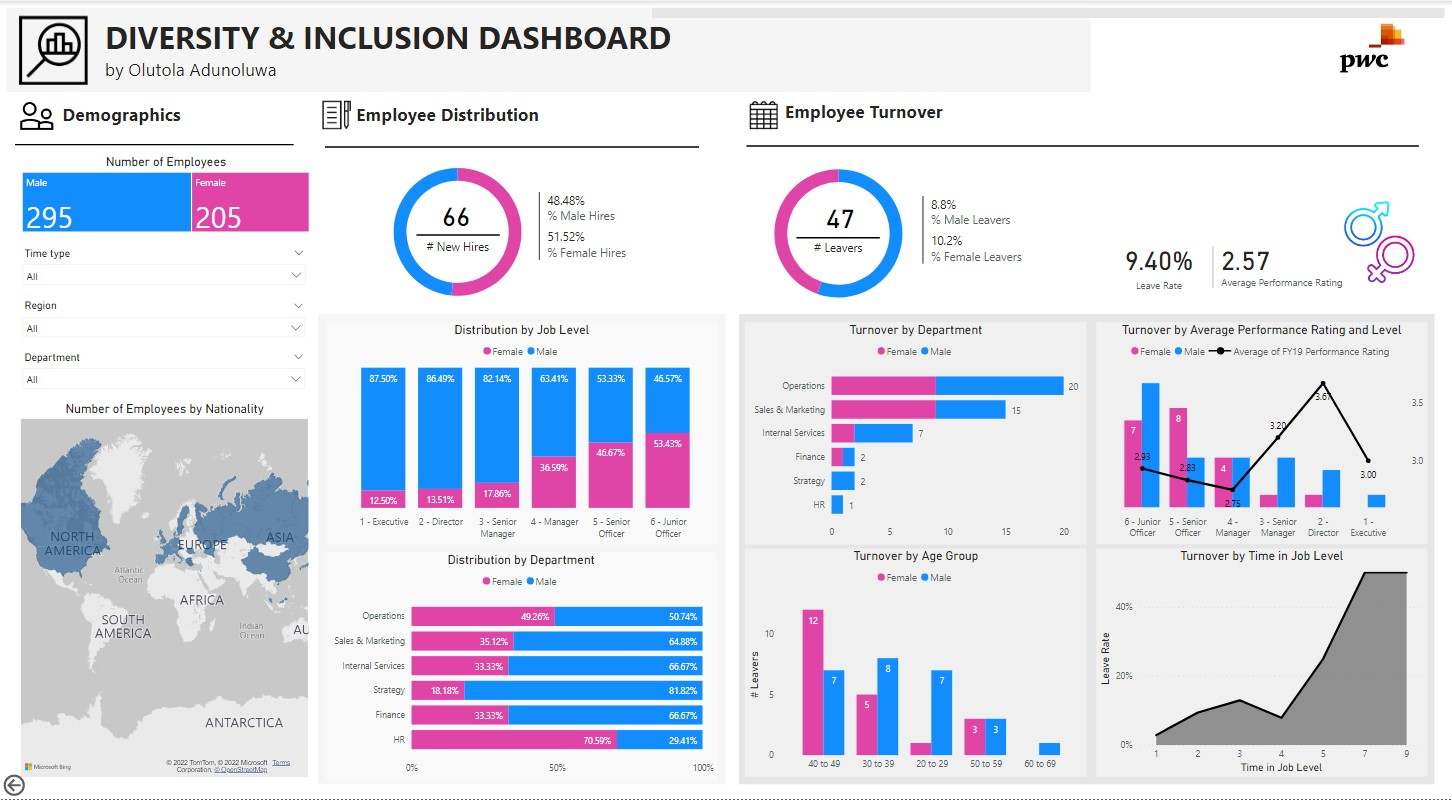

This screenshot's page, from the dashboard's own definition file:
{"tool":"powerbi","page":{"name":"Duplicate of Page 1A","canvas":[2000,1100],"ordinal":1},"visuals":[{"type":"shape","box":[0,0,1640,134.5],"z":0},{"type":"image","box":[1028.3,131.7,48.2,53.4],"z":0,"group":"g6"},{"type":"donutChart","fields":{"Category":["Pharma.Gender"],"Y":["Pharma.# Leavers"]},"box":[989.8,204.9,329.7,230.2],"z":0,"group":"g1"},{"type":"textbox","box":[1076.5,131.7,229,53.4],"z":1000,"group":"g6"},{"type":"image","box":[1795.7,154.3,204.3,292.9],"z":1000},{"type":"donutChart","fields":{"Category":["Pharma.Gender"],"Y":["Pharma.# New Hires"]},"box":[461.3,203.1,338,230.1],"z":1000,"group":"g3"},{"type":"multiRowCard","fields":{"Values":["Pharma.# % Male Hires","Pharma.# % Female Hires"]},"box":[736.8,258.6,205,121.2],"z":1000,"group":"g2"},{"type":"card","fields":{"Values":["Pharma.# Leavers"]},"box":[1093.7,273.7,127.9,45.3],"z":1000,"group":"g4"},{"type":"shape","box":[428.6,421.8,580.1,666.2],"z":2000},{"type":"card","fields":{"Values":["Pharma.# New Hires"]},"box":[571.3,278.8,112.9,52.9],"z":3000,"group":"g3"},{"type":"shape","box":[1097.1,318,115,15],"z":3000,"group":"g4"},{"type":"shape","box":[1008.8,421.8,976.1,666.2],"z":3000},{"type":"treemap","title":"Number of Employees","fields":{"Group":["Pharma Group AG.Gender"],"Values":["CountNonNull(Pharma.Employee ID)"]},"box":[25,211.3,405.4,111.4],"z":4000},{"type":"shape","box":[573.2,315.7,115,14.6],"z":5000,"group":"g3"},{"type":"hundredPercentStackedColumnChart","title":"Employee Distribution by Job Level and Gender","fields":{"Y":["CountNonNull(Pharma.Employee ID)"],"Series":["Pharma.Gender"],"Category":["Pharma.Job Level after FY20 promotions"]},"box":[449.2,442.5,538.3,306.7],"z":5000},{"type":"hundredPercentStackedBarChart","title":"# of Employees by Department and Gender","fields":{"Category":["Pharma.Department @01.07.2020"],"Series":["Pharma.Gender"],"Y":["CountNonNull(Pharma.Employee ID)"]},"box":[447.3,760,540,314.5],"z":6000},{"type":"barChart","title":"# Leavers by Department and Gender","fields":{"Category":["Pharma.Last Department in FY20"],"Series":["Pharma.Gender"],"Y":["Pharma.# Leavers"]},"box":[1026.7,441.9,470.5,306.7],"z":7000},{"type":"group","id":"g1","title":"Group 1","box":[989.8,204.9,329.7,230.2],"z":8000,"group":"g5"},{"type":"filledMap","fields":{"Category":["Pharma.Nationality 1"]},"box":[23.6,550.9,405.5,523.6],"z":8000},{"type":"areaChart","title":"Leave Rate by Time in Job Level ","fields":{"Category":["Pharma.Time in Job Level @01.07.2020"],"Y":["Pharma.# % Leave Rate"]},"box":[1510,754.3,455.7,314.3],"z":9000},{"type":"textbox","box":[140,15,1115,103.3],"z":10000},{"type":"image","box":[1771.6,0,228,122],"z":11000},{"type":"multiRowCard","fields":{"Values":["Pharma.# % Male Leavers","Pharma.# % Female Leavers"]},"box":[1265,264,215,121.2],"z":11000,"group":"g5"},{"type":"textbox","box":[1077.6,324.1,153.4,34.4],"z":11000,"group":"g4"},{"type":"group","id":"g2","title":"Group 4","box":[461.3,203.1,480.5,230.1],"z":12000},{"type":"group","id":"g3","title":"Group 2","box":[461.3,203.1,338,230.1],"z":12000,"group":"g2"},{"type":"textbox","box":[564.5,321.9,131.5,37.6],"z":12000,"group":"g3"},{"type":"group","id":"g4","title":"Group 3","box":[1077.6,273.7,153.4,84.8],"z":12002,"group":"g1"},{"type":"textbox","box":[493.1,135.1,229,53.4],"z":13000,"group":"g7"},{"type":"group","id":"g5","title":"Group 5","box":[989.8,204.9,490.6,229],"z":13000},{"type":"image","box":[20.3,134.6,59.5,48.5],"z":14000},{"type":"shape","box":[448.3,185,515,33.3],"z":15000},{"type":"shape","box":[1027.7,182.5,926.1,34.4],"z":16000},{"type":"shape","box":[20.7,184.2,383.9,27.5],"z":17000},{"type":"group","id":"g6","title":"Group 6","box":[1028.3,131.7,278.3,53.3],"z":18000},{"type":"group","id":"g7","title":"Group 7","box":[493.1,135.1,229,53.4],"z":18000,"group":"g8"},{"type":"slicer","fields":{"Values":["Pharma.Time type"]},"box":[20.7,334,409.7,74],"z":19000},{"type":"textbox","box":[80.9,134.3,229,53.4],"z":20000},{"type":"image","box":[20,15,105,105],"z":21000},{"type":"lineClusteredColumnComboChart","title":"# Leavers by Age Group and Gender","fields":{"Series":["Pharma.Gender"],"Y":["Pharma.# Leavers"],"Category":["Pharma.Age group"]},"box":[1026.7,754.3,470.5,314.3],"z":22000},{"type":"lineClusteredColumnComboChart","title":"# Leavers and Average Performance Rating by Level","fields":{"Category":["Pharma.Job Level before FY20 promotions"],"Series":["Pharma.Gender"],"Y":["Pharma.# Leavers"],"Y2":["Avg(Pharma.FY19 Performance Rating)"]},"box":[1510,442.9,455.7,305.7],"z":23000},{"type":"shape","box":[888.3,0,1110.3,32.7],"z":24000},{"type":"image","box":[430.9,132.7,65.5,49.1],"z":25001,"group":"g8"},{"type":"group","id":"g8","title":"Group 8","box":[430.9,132.7,291.1,55.7],"z":26000},{"type":"slicer","fields":{"Values":["Pharma.Region group: nationality 1"]},"box":[20,405.5,409.1,74.5],"z":27000},{"type":"slicer","fields":{"Values":["Pharma.Department @01.07.2020"]},"box":[20,476.4,409.1,74.5],"z":28000},{"type":"multiRowCard","fields":{"Values":["Avg(Pharma.FY20 Performance Rating)"]},"box":[1738.2,369.1,229.1,65.5],"z":29000}]}

Visuals, with their boxes in screenshot pixels (x1, y1, x2, y2), scaled from the page's 2000x1100 canvas onto the 1452x800 screenshot:
shape: bbox(0, 0, 1191, 98)
image: bbox(747, 96, 782, 135)
donutChart - Pharma.Gender x Pharma.# Leavers: bbox(719, 149, 958, 316)
textbox: bbox(782, 96, 948, 135)
image: bbox(1304, 112, 1451, 325)
donutChart - Pharma.Gender x Pharma.# New Hires: bbox(335, 148, 580, 315)
multiRowCard - Pharma.# % Male Hires x Pharma.# % Female Hires: bbox(535, 188, 684, 276)
card - Pharma.# Leavers: bbox(794, 199, 887, 232)
shape: bbox(311, 307, 732, 791)
card - Pharma.# New Hires: bbox(415, 203, 497, 241)
shape: bbox(796, 231, 880, 242)
shape: bbox(732, 307, 1441, 791)
"Number of Employees" treemap: bbox(18, 154, 312, 235)
shape: bbox(416, 230, 500, 240)
"Employee Distribution by Job Level and Gender" hundredPercentStackedColumnChart: bbox(326, 322, 717, 545)
"# of Employees by Department and Gender" hundredPercentStackedBarChart: bbox(325, 553, 717, 781)
"# Leavers by Department and Gender" barChart: bbox(745, 321, 1087, 544)
"Group 1" group: bbox(719, 149, 958, 316)
filledMap - Pharma.Nationality 1: bbox(17, 401, 312, 781)
"Leave Rate by Time in Job Level " areaChart: bbox(1096, 549, 1427, 777)
textbox: bbox(102, 11, 911, 86)
image: bbox(1286, 0, 1451, 89)
multiRowCard - Pharma.# % Male Leavers x Pharma.# % Female Leavers: bbox(918, 192, 1074, 280)
textbox: bbox(782, 236, 894, 261)
"Group 4" group: bbox(335, 148, 684, 315)
"Group 2" group: bbox(335, 148, 580, 315)
textbox: bbox(410, 234, 505, 261)
"Group 3" group: bbox(782, 199, 894, 261)
textbox: bbox(358, 98, 524, 137)
"Group 5" group: bbox(719, 149, 1075, 316)
image: bbox(15, 98, 58, 133)
shape: bbox(325, 135, 699, 159)
shape: bbox(746, 133, 1418, 158)
shape: bbox(15, 134, 294, 154)
"Group 6" group: bbox(747, 96, 949, 135)
"Group 7" group: bbox(358, 98, 524, 137)
slicer - Pharma.Time type: bbox(15, 243, 312, 297)
textbox: bbox(59, 98, 225, 137)
image: bbox(15, 11, 91, 87)
"# Leavers by Age Group and Gender" lineClusteredColumnComboChart: bbox(745, 549, 1087, 777)
"# Leavers and Average Performance Rating by Level" lineClusteredColumnComboChart: bbox(1096, 322, 1427, 544)
shape: bbox(645, 0, 1451, 24)
image: bbox(313, 97, 360, 132)
"Group 8" group: bbox(313, 97, 524, 137)
slicer - Pharma.Region group: nationality 1: bbox(15, 295, 312, 349)
slicer - Pharma.Department @01.07.2020: bbox(15, 346, 312, 401)
multiRowCard - Avg(Pharma.FY20 Performance Rating): bbox(1262, 268, 1428, 316)
